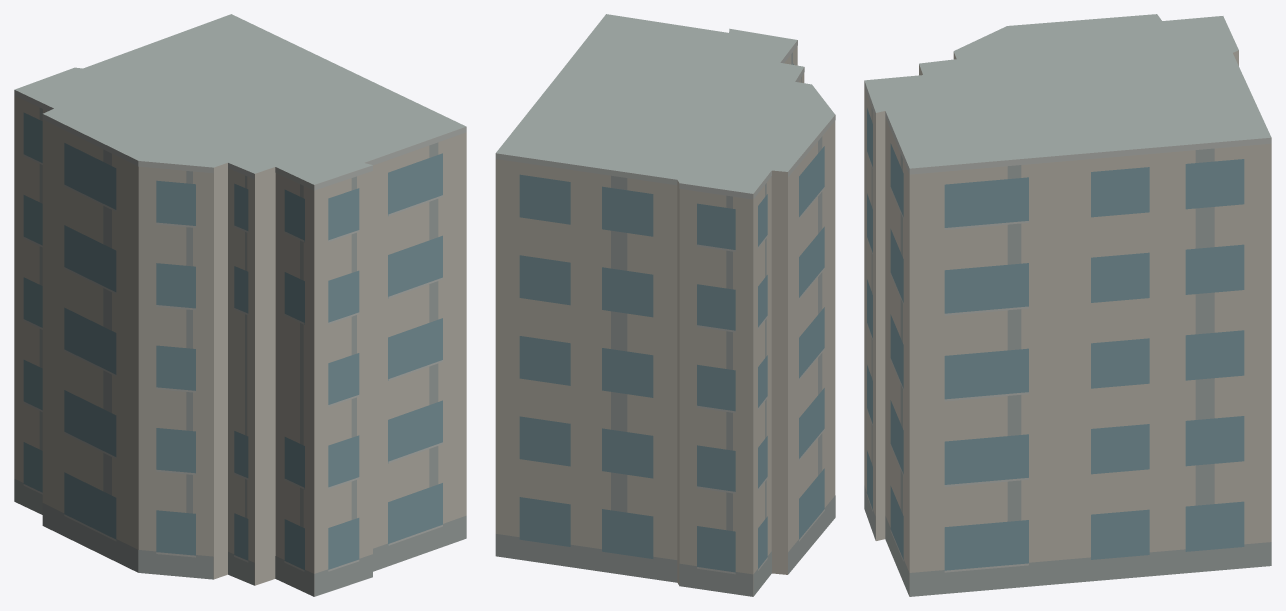
File: survey-upis-32467872.glb
3 renders of one model, left to right at view 1: azimuth 30°, elevation 25°; view 2: azimuth 150°, elevation 25°; view 3: azimuth 270°, elevation 25°, orthographic. The views are drawn at different scales.
Visible parts, largest first — view 1: survey-upis-32467872.tmp; view 2: survey-upis-32467872.tmp; view 3: survey-upis-32467872.tmp.
Part boxes in pixels (bbox=[...]): survey-upis-32467872.tmp: bbox=[14, 14, 466, 596]; survey-upis-32467872.tmp: bbox=[495, 14, 835, 596]; survey-upis-32467872.tmp: bbox=[864, 14, 1271, 596].
Bounding box in the file's own units: 13.56 × 17.5 × 15.09.
